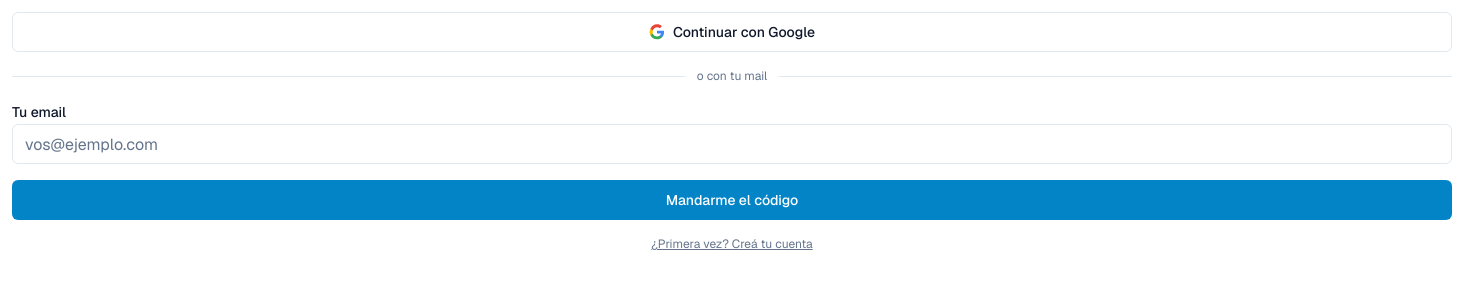
Test: LoginForm › email inválido (sin @) → muestra error y no avanza
Type "noesvalido" into the field labelled "Tu email".
click(732, 144); type("noesvalido")  # box [12,124,1452,164]
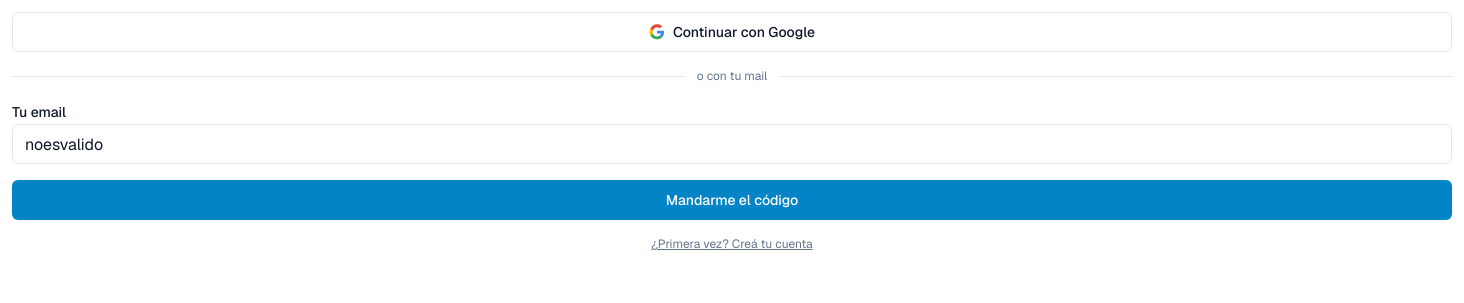
Submit the form "Mandarme el código", box [12,100,1452,220]
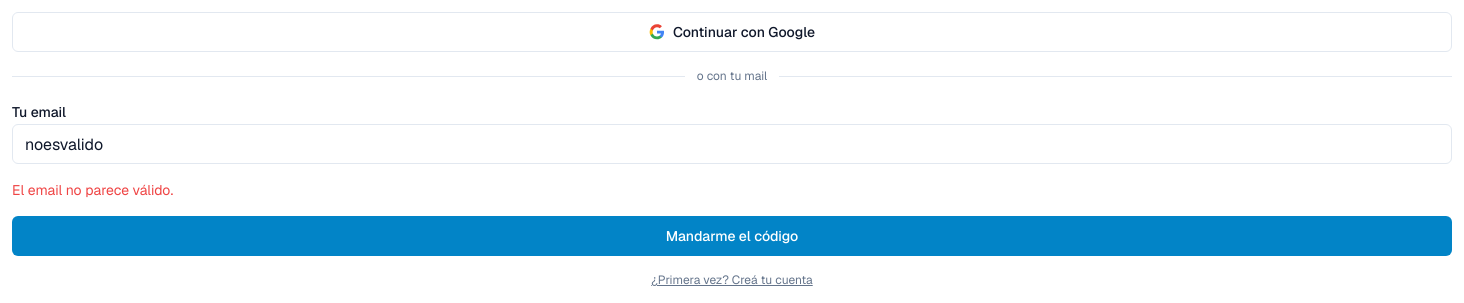
Now the text "El email no parece válido." is shown, box [12,181,173,199]
